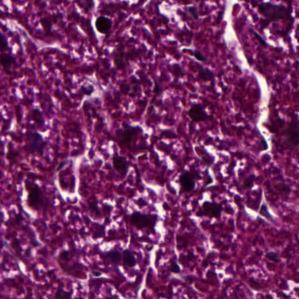inflammation: (113, 115, 156, 166), (17, 173, 56, 220), (169, 164, 214, 195), (110, 246, 139, 283)
